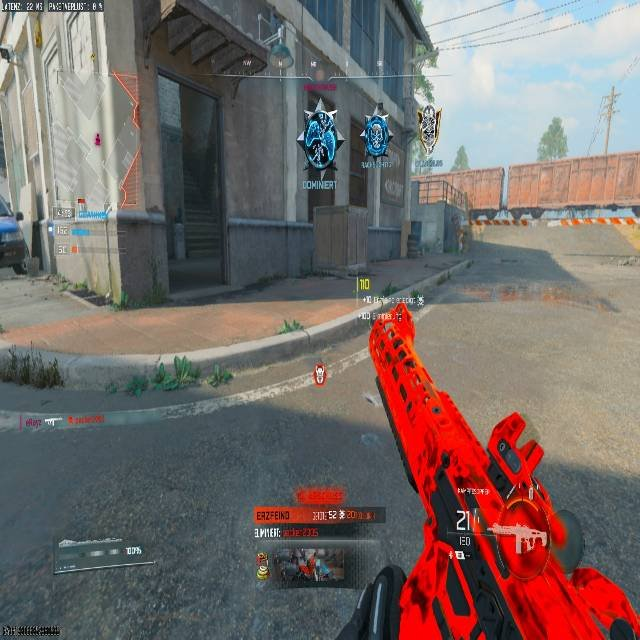player: (300, 105, 339, 183), (456, 227, 467, 253)
